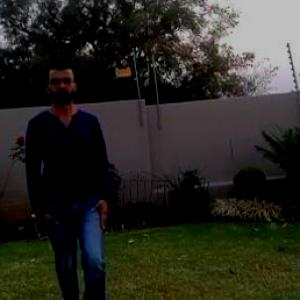follow: (32, 71, 108, 299)
